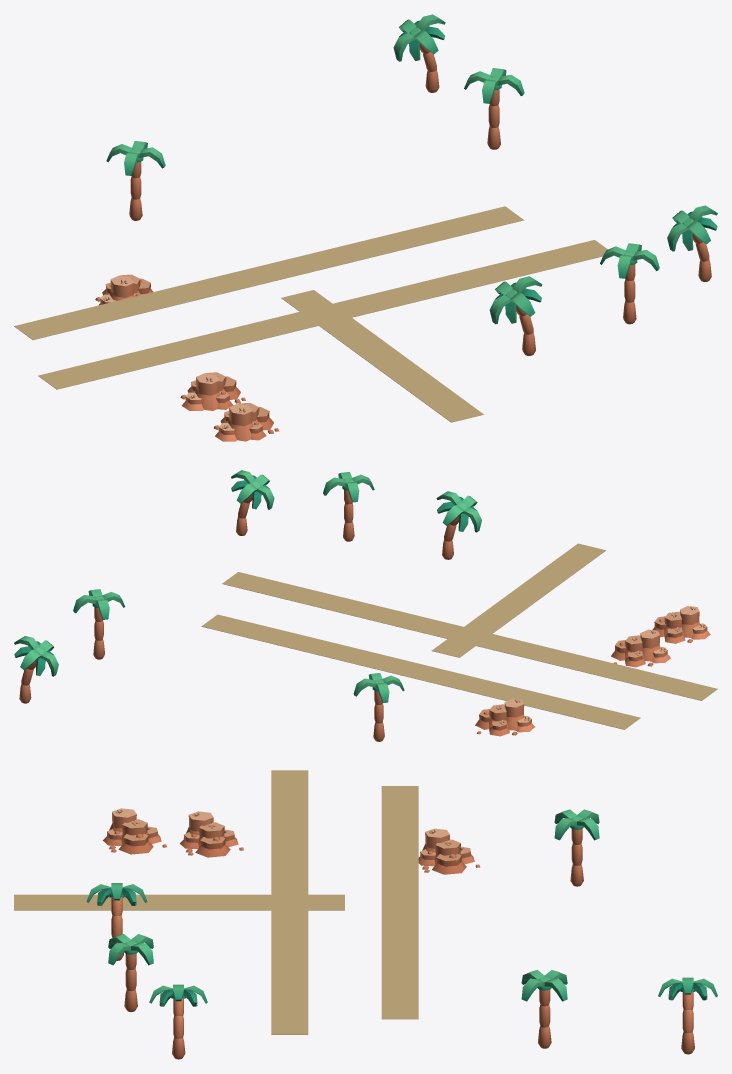
Rendered from food_scenery.glb.
3 views of the same model, one above another, from view 1: azimuth 30°, elevation 25°; view 2: azimuth 150°, elevation 25°; view 3: azimuth 270°, elevation 25° (orthographic). The views are drawn at different scales.
Parts seen in each view (by area): view 1: Packed-sand lane.003, Packed-sand lane, Packed-sand lane.001, Packed-sand lane.002, palm-detailed-bend.003, palm-detailed-bend.002, palm-detailed-bend.001, rocks-sand-a.001, rocks-sand-a.003, palm-straight.001, palm-straight.003, palm-straight.002 (+1 smaller); view 2: Packed-sand lane.003, Packed-sand lane, Packed-sand lane.001, Packed-sand lane.002, palm-detailed-bend.003, rocks-sand-a.002, rocks-sand-a.003, palm-detailed-bend.002, rocks-sand-a.001, palm-detailed-bend.001, palm-straight.001, palm-straight.003 (+1 smaller); view 3: Packed-sand lane.003, Packed-sand lane, Packed-sand lane.001, Packed-sand lane.002, rocks-sand-a.003, rocks-sand-a.001, rocks-sand-a.002, palm-straight.001, palm-straight.003, palm-straight.002, palm-detailed-bend.002, palm-detailed-bend.001 (+1 smaller).
Boxes of the visible parts, left/top/right/bottom form: Packed-sand lane.003: left=14, top=206, right=523, bottom=339; Packed-sand lane: left=281, top=290, right=483, bottom=422; Packed-sand lane.001: left=38, top=311, right=318, bottom=389; Packed-sand lane.002: left=333, top=240, right=607, bottom=317; palm-detailed-bend.003: left=489, top=276, right=542, bottom=355; palm-detailed-bend.002: left=393, top=14, right=445, bottom=92; palm-detailed-bend.001: left=667, top=205, right=717, bottom=281; rocks-sand-a.001: left=214, top=402, right=278, bottom=441; rocks-sand-a.003: left=180, top=372, right=245, bottom=410; palm-straight.001: left=464, top=68, right=524, bottom=149; palm-straight.003: left=600, top=243, right=659, bottom=324; palm-straight.002: left=106, top=141, right=165, bottom=220; Packed-sand lane.003: left=201, top=614, right=640, bottom=729; Packed-sand lane: left=431, top=543, right=605, bottom=657; Packed-sand lane.001: left=476, top=634, right=717, bottom=700; Packed-sand lane.002: left=222, top=572, right=463, bottom=638; palm-detailed-bend.003: left=436, top=491, right=481, bottom=559; rocks-sand-a.002: left=475, top=698, right=534, bottom=736; rocks-sand-a.003: left=611, top=629, right=670, bottom=667; palm-detailed-bend.002: left=14, top=636, right=58, bottom=703; rocks-sand-a.001: left=652, top=606, right=710, bottom=643; palm-detailed-bend.001: left=231, top=470, right=274, bottom=535; palm-straight.001: left=73, top=589, right=125, bottom=659; palm-straight.003: left=323, top=472, right=374, bottom=541; Packed-sand lane.003: left=381, top=786, right=418, bottom=1019; Packed-sand lane: left=14, top=894, right=344, bottom=910; Packed-sand lane.001: left=271, top=770, right=308, bottom=894; Packed-sand lane.002: left=271, top=910, right=308, bottom=1034; rocks-sand-a.003: left=180, top=811, right=243, bottom=857; rocks-sand-a.001: left=103, top=808, right=166, bottom=854; rocks-sand-a.002: left=418, top=828, right=480, bottom=874; palm-straight.001: left=521, top=970, right=567, bottom=1048; palm-straight.003: left=108, top=934, right=153, bottom=1011; palm-straight.002: left=554, top=809, right=599, bottom=886; palm-detailed-bend.002: left=658, top=977, right=717, bottom=1054; palm-detailed-bend.001: left=149, top=984, right=207, bottom=1059.
Bounding box in the file's own units: 37.36 × 5.15 × 38.28.
4 materials, 3 textured.
